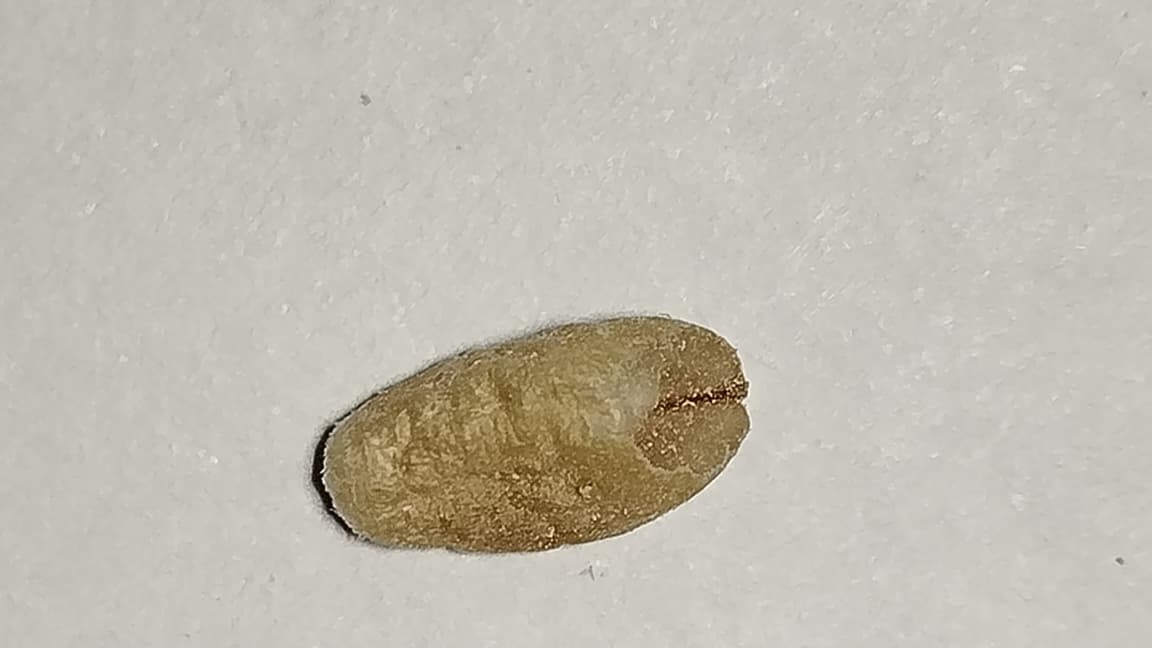damage: (323, 316, 748, 551)
insectdamage: (633, 338, 751, 489)
shriveledseed: (363, 339, 656, 543)
